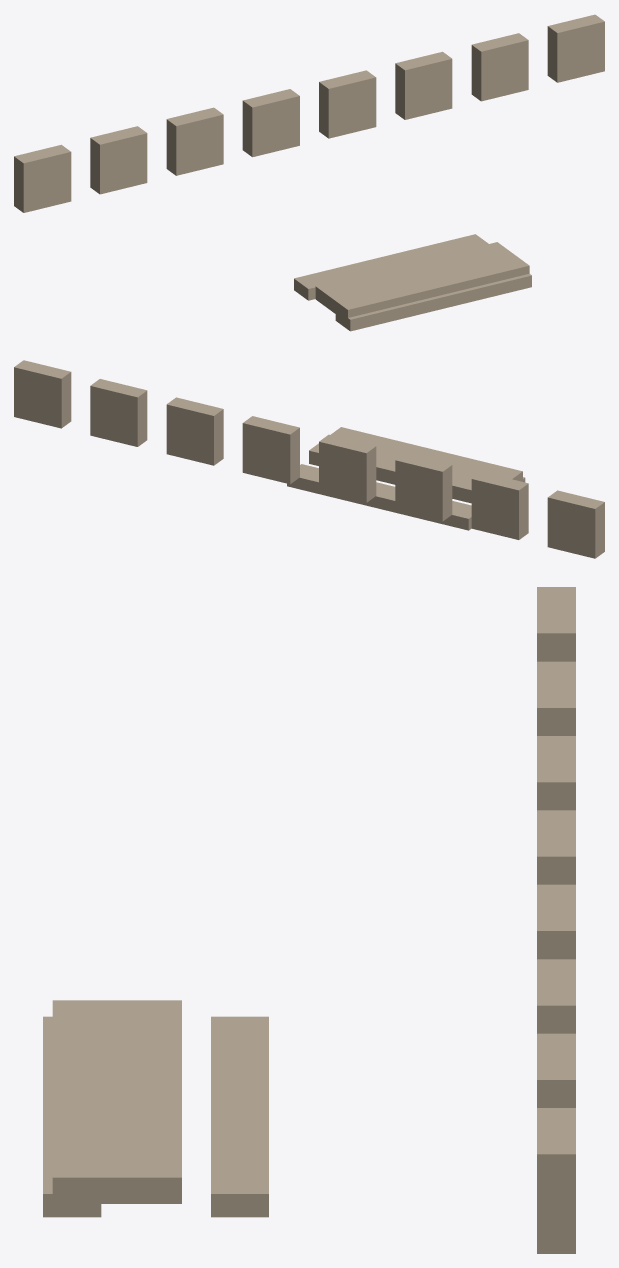
Rendered from SM_Int_Freighter_CrewQuarters_Mess.fbx.
The picture shows the model from 3 angles, top to bottom: view 1: azimuth 30°, elevation 25°; view 2: azimuth 150°, elevation 25°; view 3: azimuth 270°, elevation 25°; orthographic projection. The views are drawn at different scales.
Parts seen in each view (by area): view 1: SM_Int_Freighter_CrewQuarters_Mess; view 2: SM_Int_Freighter_CrewQuarters_Mess; view 3: SM_Int_Freighter_CrewQuarters_Mess.
Boxes of the visible parts, <box> form: SM_Int_Freighter_CrewQuarters_Mess: <box>14,14,604,331</box>; SM_Int_Freighter_CrewQuarters_Mess: <box>14,360,604,558</box>; SM_Int_Freighter_CrewQuarters_Mess: <box>43,587,575,1253</box>.
Size of the model in its own units: 686 by 272 by 148.
